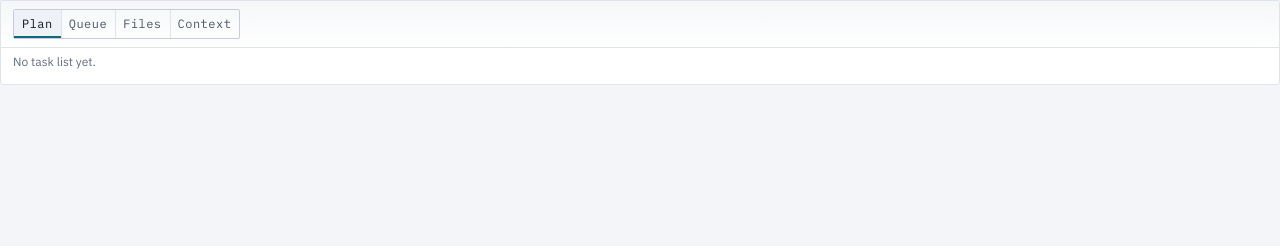
Test: shows distinct per-file commits and dirty labels while keeping diff buttons keyboard accessible
Click the button "Files" at (142, 24), box [115,10,170,38]
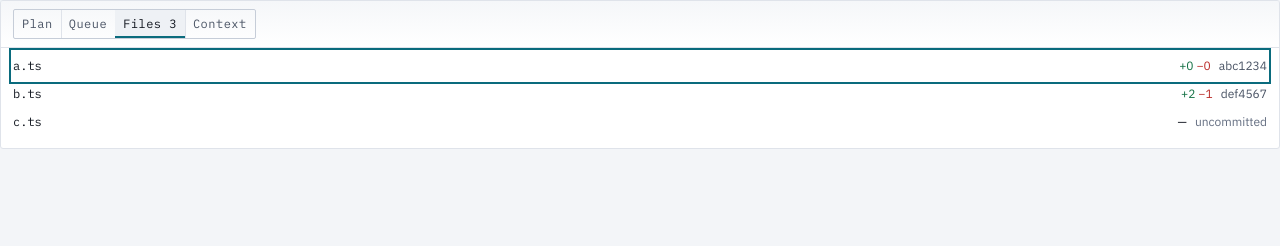
Press Enter in the button named "a.ts+0 −0abc1234", box [13,52,1267,80]
Click the button named "a.ts+0 −0abc1234" at (1243, 66), box [13,52,1267,80]
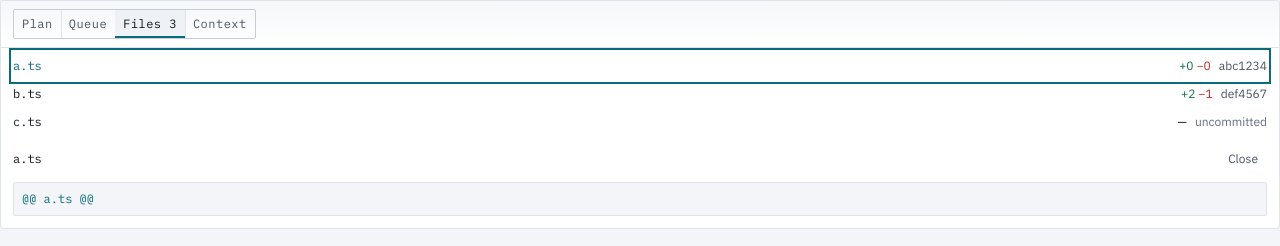
Result: the button named "b.ts+2 −1def4567" is shown at [13,80,1267,108]
Result: the button named "c.ts—uncommitted" is shown at [13,108,1267,136]
Result: the text "@@ a.ts @@" is shown at [22,191,94,206]
Click the button "Close" at (1243, 159), box [1219,144,1267,174]
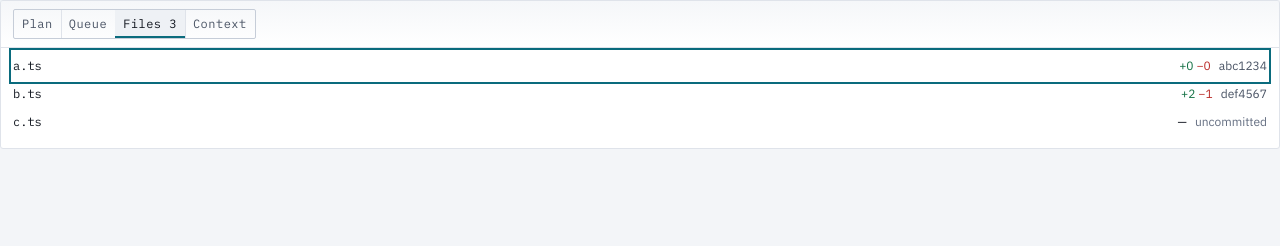
Result: the text "@@ a.ts @@" is gone
